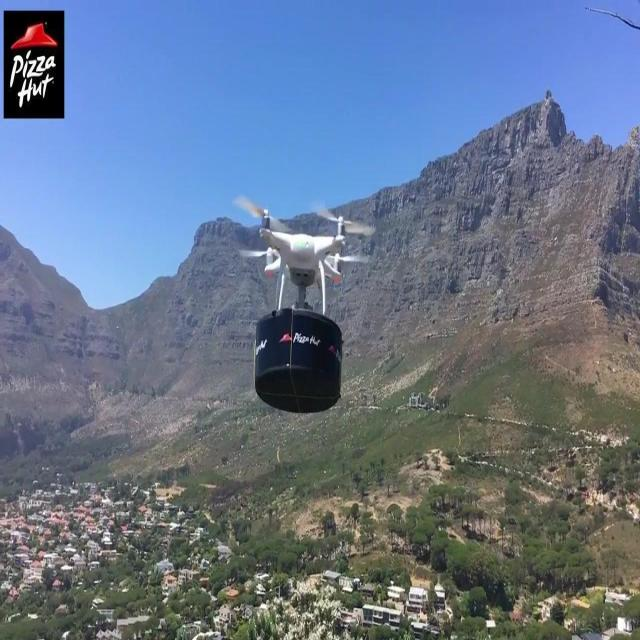drone: (229, 194, 376, 413)
